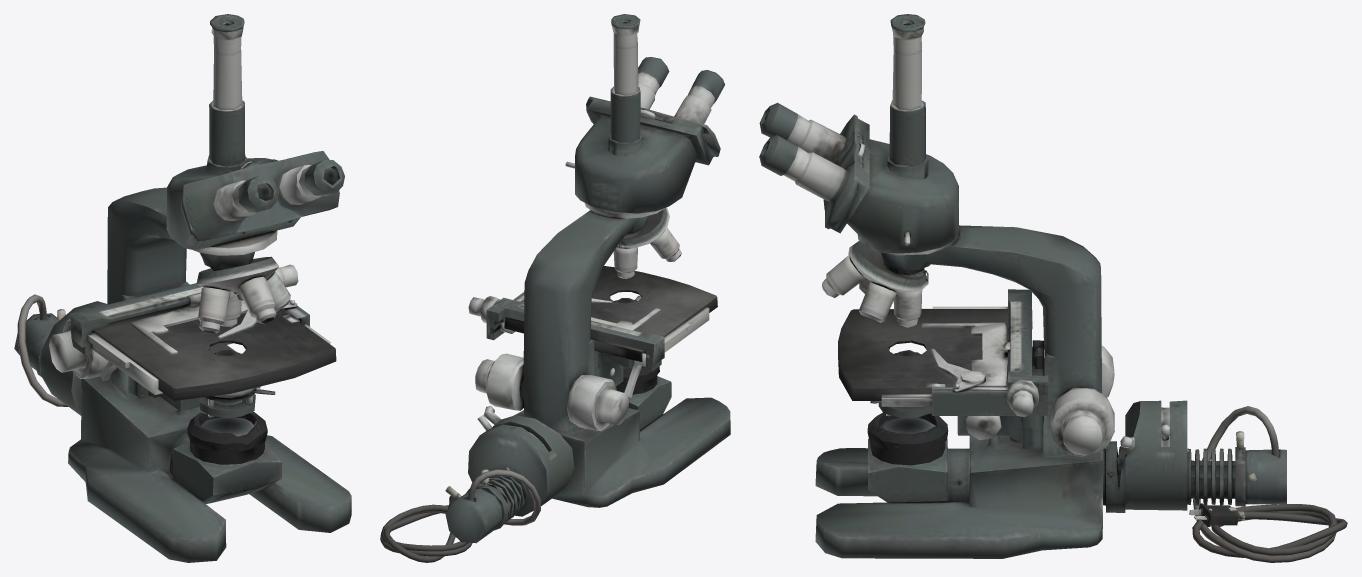
File: microscope.glb
3 renders of one model, left to right at view 1: azimuth 30°, elevation 25°; view 2: azimuth 150°, elevation 25°; view 3: azimuth 270°, elevation 25°, orthographic. The views are drawn at different scales.
Visible parts, largest first — view 1: industrial_microscope, industrial_microscope_cable; view 2: industrial_microscope, industrial_microscope_cable; view 3: industrial_microscope, industrial_microscope_cable.
Boxes of the visible parts, box(x1,y1,x2,y2) form: industrial_microscope: box(14, 14, 351, 562); industrial_microscope_cable: box(17, 294, 68, 406); industrial_microscope: box(445, 14, 730, 543); industrial_microscope_cable: box(380, 469, 540, 562); industrial_microscope: box(759, 14, 1286, 558); industrial_microscope_cable: box(1189, 406, 1347, 562).
Bounding box in the file's own units: 0.2145 × 0.4619 × 0.4984.
1 material, 1 textured.
